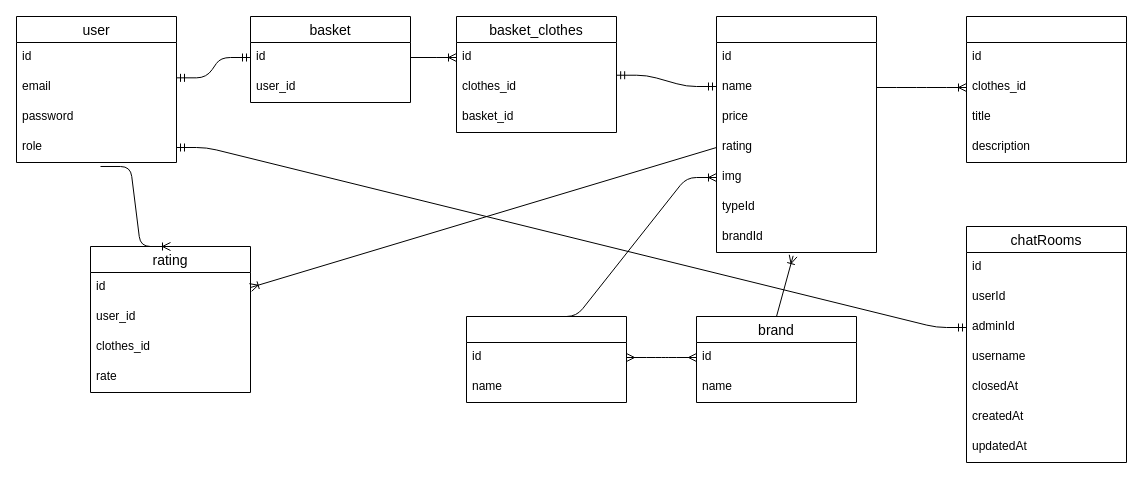
Some shapes in this 1143 by 479 pixel diagram are drawn without their labels. The shapes that lost their labels are listed below. From the top down, each one's box as (x1, y1, x2, y2) in pixels, then its label:
(966, 16, 1126, 162): clothes_info
(716, 16, 876, 252): clothes
(466, 316, 626, 402): type
